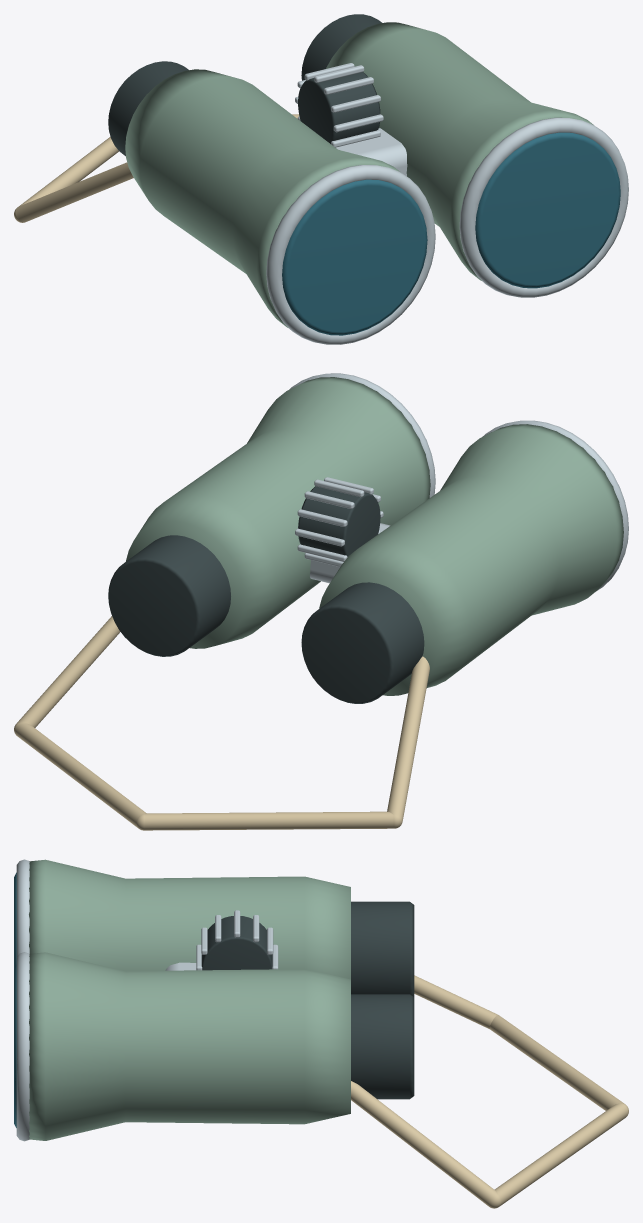
Rendered from binoculars.glb.
3 renders of one model, top to bottom at view 1: azimuth 30°, elevation 25°; view 2: azimuth 150°, elevation 25°; view 3: azimuth 270°, elevation 25°, orthographic.
Parts seen in each view (by area): view 1: Optical_Barrel, Optical_Barrel_2, Objective_Lens, Objective_Lens_2, Objective_Rim_2, Objective_Rim, Focus_Knob, Eyecup, Neck_Strap_Tube0, Eyecup_2, Neck_Strap_Tube1, Center_Bridge; view 2: Optical_Barrel, Optical_Barrel_2, Eyecup_2, Eyecup, Neck_Strap_Tube1, Focus_Knob, Neck_Strap_Tube0, Neck_Strap_Tube2, Neck_Strap_Tube3, Objective_Rim, Objective_Rim_2; view 3: Optical_Barrel_2, Optical_Barrel, Eyecup_2, Eyecup, Neck_Strap_Tube3, Focus_Knob, Neck_Strap_Tube2, Objective_Rim_2, Neck_Strap_Tube1, Neck_Strap_Tube0, Objective_Rim.
Part boxes in pixels (left/top/right/bottom): Optical_Barrel: left=125, top=69, right=400, bottom=327; Optical_Barrel_2: left=326, top=22, right=593, bottom=280; Objective_Lens: left=282, top=179, right=427, bottom=335; Objective_Lens_2: left=475, top=132, right=620, bottom=288; Objective_Rim_2: left=459, top=117, right=628, bottom=297; Objective_Rim: left=266, top=165, right=435, bottom=344; Focus_Knob: left=298, top=72, right=380, bottom=143; Eyecup: left=108, top=61, right=188, bottom=156; Neck_Strap_Tube0: left=16, top=162, right=133, bottom=222; Eyecup_2: left=301, top=14, right=381, bottom=80; Neck_Strap_Tube1: left=19, top=137, right=119, bottom=206; Center_Bridge: left=336, top=128, right=407, bottom=176; Optical_Barrel: left=319, top=424, right=623, bottom=695; Optical_Barrel_2: left=126, top=377, right=430, bottom=648; Eyecup_2: left=108, top=535, right=230, bottom=656; Eyecup: left=301, top=582, right=424, bottom=703; Neck_Strap_Tube1: left=144, top=811, right=393, bottom=830; Focus_Knob: left=298, top=486, right=380, bottom=556; Neck_Strap_Tube0: left=387, top=656, right=429, bottom=820; Neck_Strap_Tube2: left=15, top=723, right=146, bottom=827; Neck_Strap_Tube3: left=17, top=616, right=120, bottom=727; Objective_Rim: left=482, top=420, right=628, bottom=591; Objective_Rim_2: left=289, top=373, right=435, bottom=497; Optical_Barrel_2: left=29, top=952, right=350, bottom=1140; Optical_Barrel: left=29, top=859, right=350, bottom=979; Eyecup_2: left=351, top=994, right=414, bottom=1099; Eyecup: left=351, top=901, right=414, bottom=996; Neck_Strap_Tube3: left=351, top=1081, right=497, bottom=1205; Focus_Knob: left=201, top=916, right=272, bottom=970; Neck_Strap_Tube2: left=494, top=1103, right=627, bottom=1205; Objective_Rim_2: left=16, top=952, right=29, bottom=1141; Neck_Strap_Tube1: left=489, top=1015, right=623, bottom=1110; Neck_Strap_Tube0: left=414, top=975, right=497, bottom=1028; Objective_Rim: left=16, top=859, right=29, bottom=956.
Bounding box in the file's own units: 0.208 × 0.107 × 0.292.
